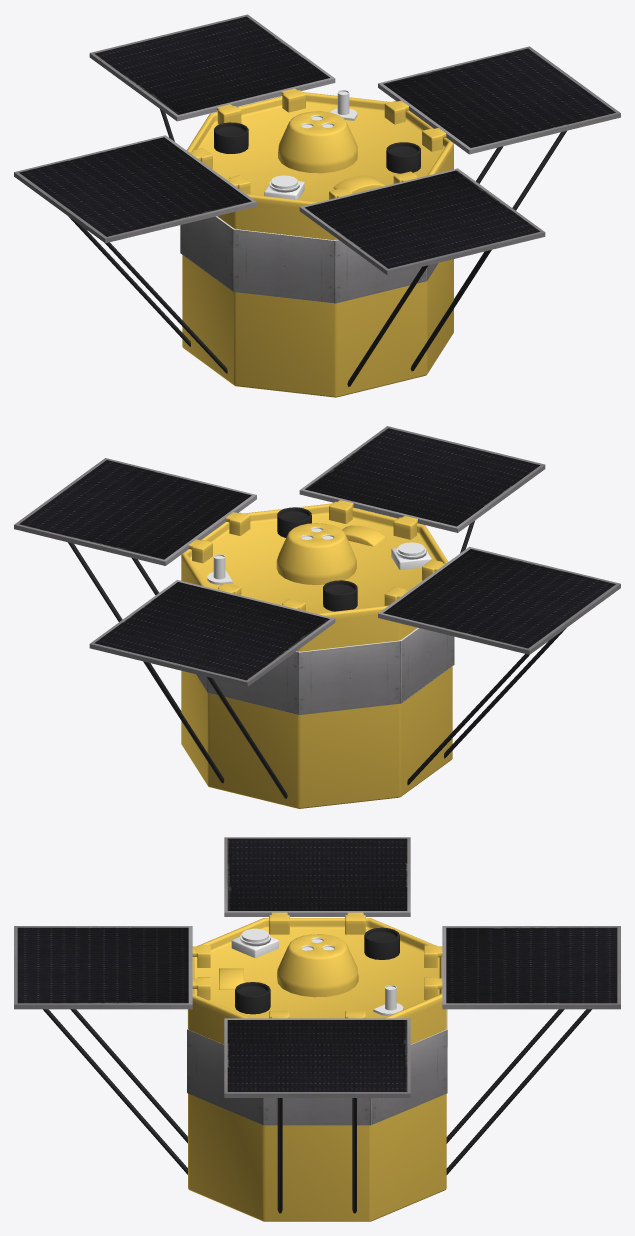
Rendered from acrimsat.gltf.
3 views of the same model, one above another, from view 1: azimuth 30°, elevation 25°; view 2: azimuth 150°, elevation 25°; view 3: azimuth 270°, elevation 25° (orthographic).
Parts seen in each view (by area): view 1: shiny_panel, BUS, Band, array_frame, black_krinkle, metal_instruments; view 2: shiny_panel, BUS, Band, array_frame, black_krinkle, metal_instruments; view 3: shiny_panel, BUS, Band, array_frame, black_krinkle, metal_instruments.
Part boxes in pixels (x1,y1,x2,y2): shiny_panel: [19, 16, 615, 268]; BUS: [182, 88, 453, 397]; Band: [180, 216, 438, 303]; array_frame: [14, 14, 620, 275]; black_krinkle: [68, 109, 566, 386]; metal_instruments: [264, 90, 357, 199]; shiny_panel: [19, 428, 615, 680]; BUS: [181, 500, 452, 808]; Band: [196, 628, 454, 714]; array_frame: [14, 426, 620, 686]; black_krinkle: [68, 507, 566, 798]; metal_instruments: [207, 542, 431, 584]; shiny_panel: [17, 838, 617, 1091]; BUS: [188, 912, 446, 1221]; Band: [187, 1009, 447, 1125]; array_frame: [14, 837, 620, 1097]; black_krinkle: [43, 927, 591, 1213]; metal_instruments: [231, 928, 403, 1015].
Size of the model in its own units: 1.8 by 0.7267 by 1.8.
5 materials, 2 textured.
